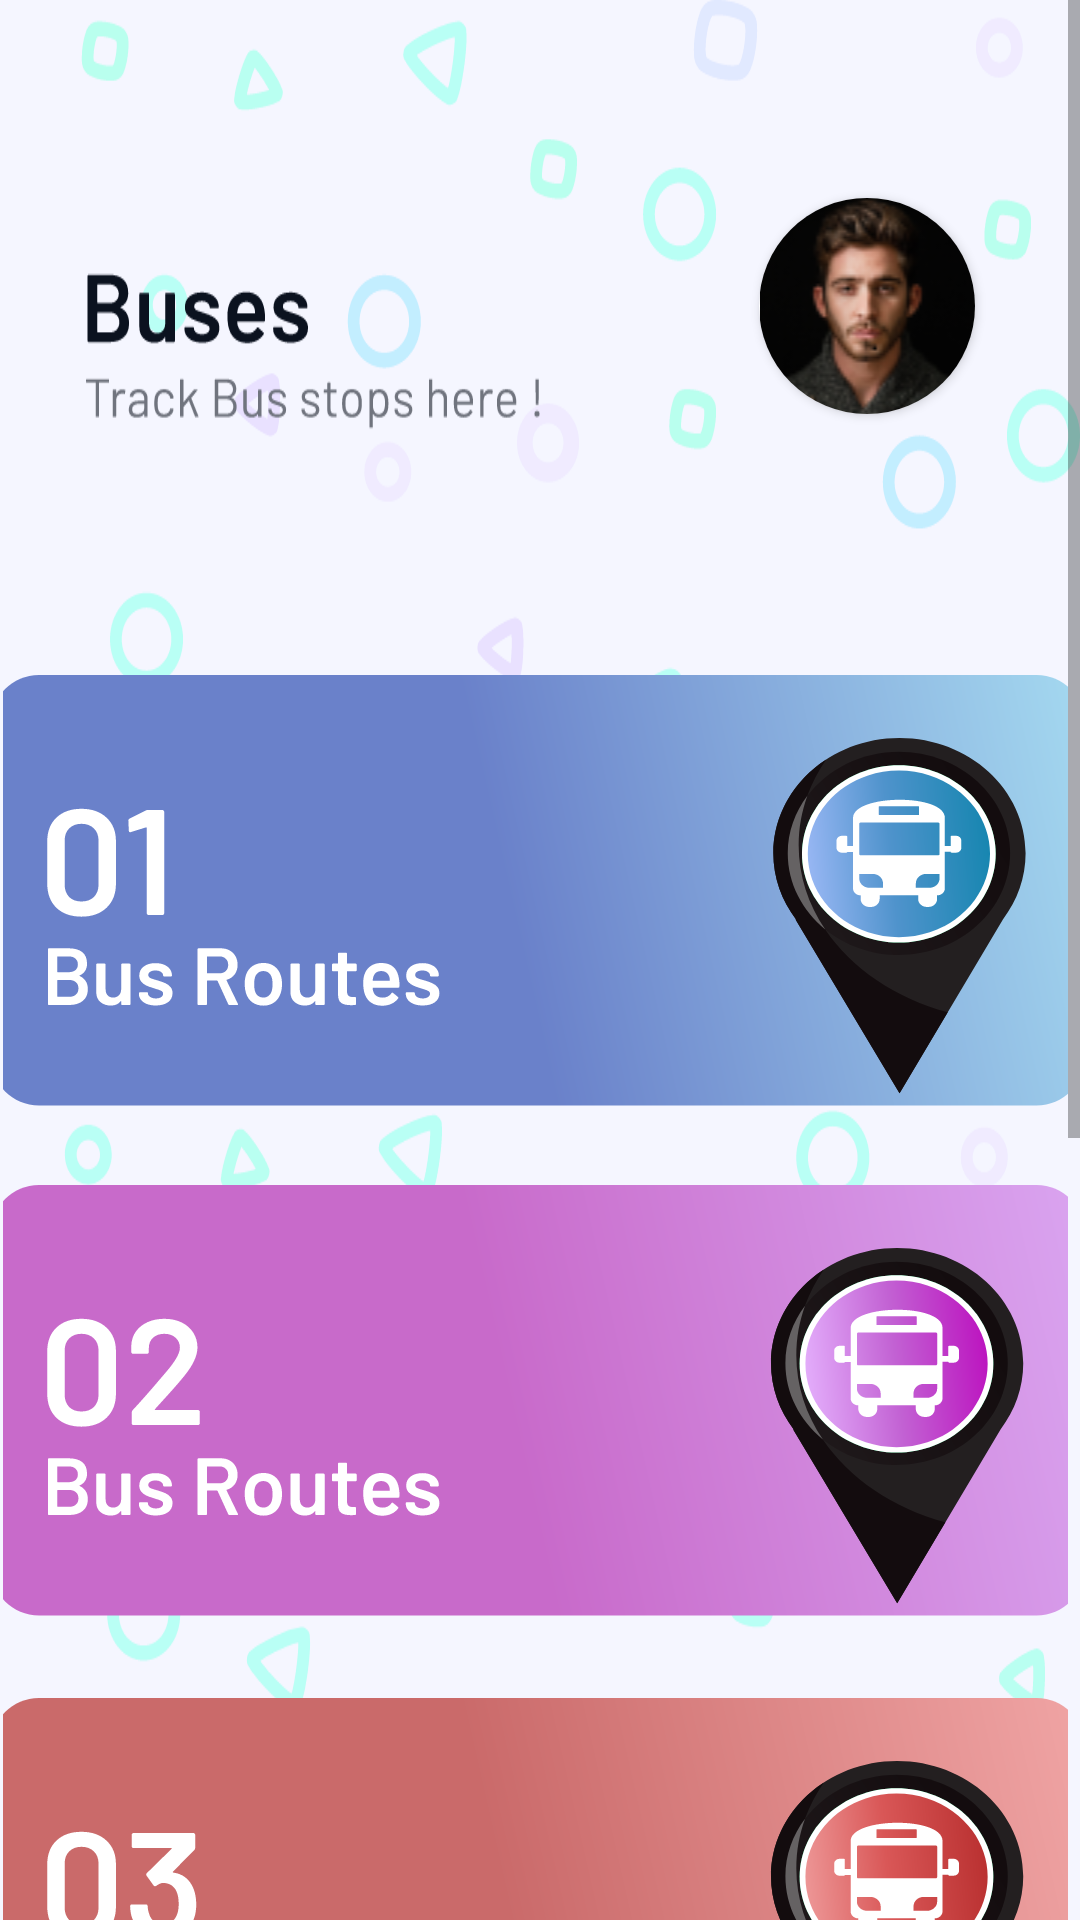

Icons on this 1080×1920 Android screen, each with the point to tap as (x,y):
men profile: (867,306)
